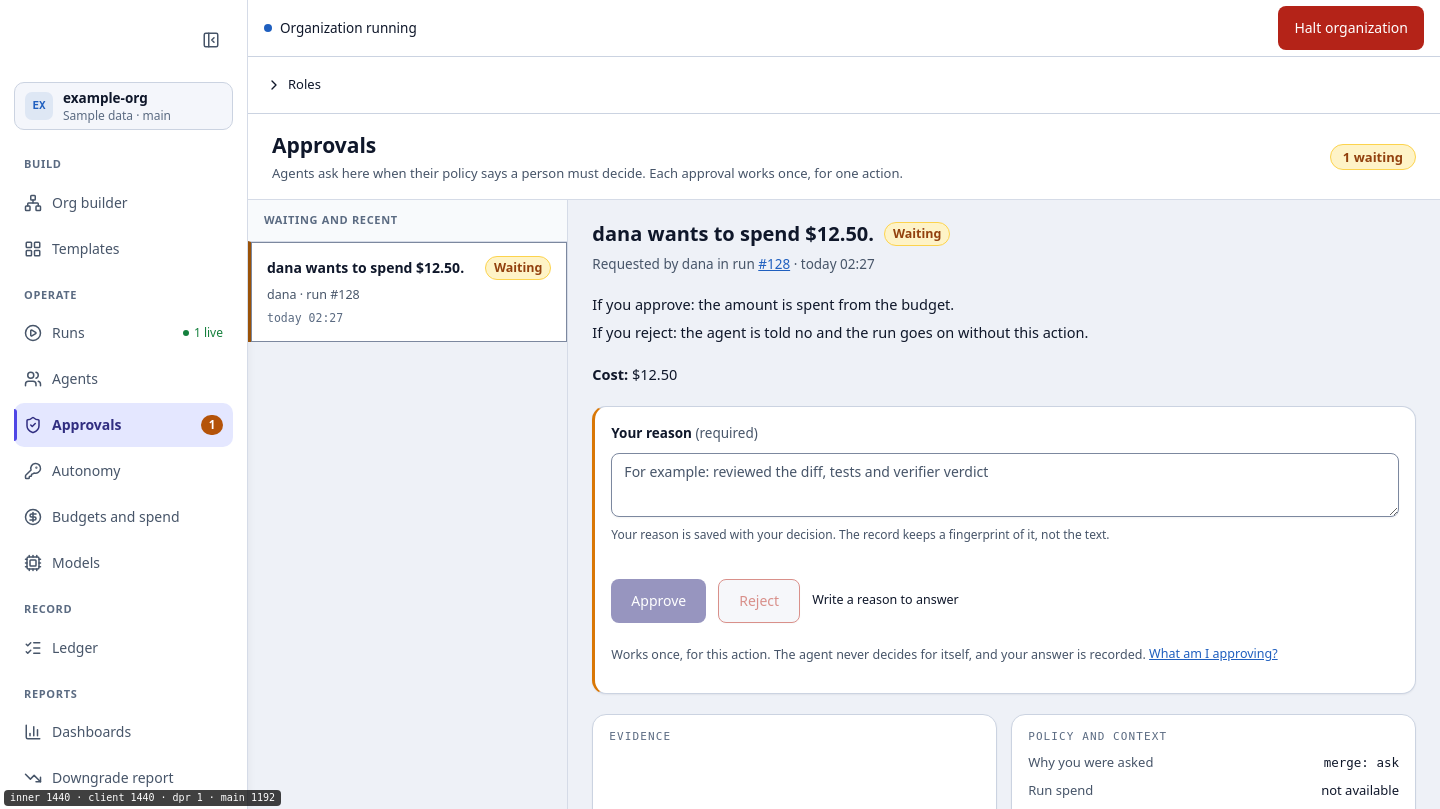
Test case: solo approve: the confirm dialog (SA-17) › says so when the role, the run's spend or a budget is not known, and shows a spend's amount
In the text box labelled "Your reason (required)": (1005, 485) 611,453 -> 1399,517, type "read the diff"
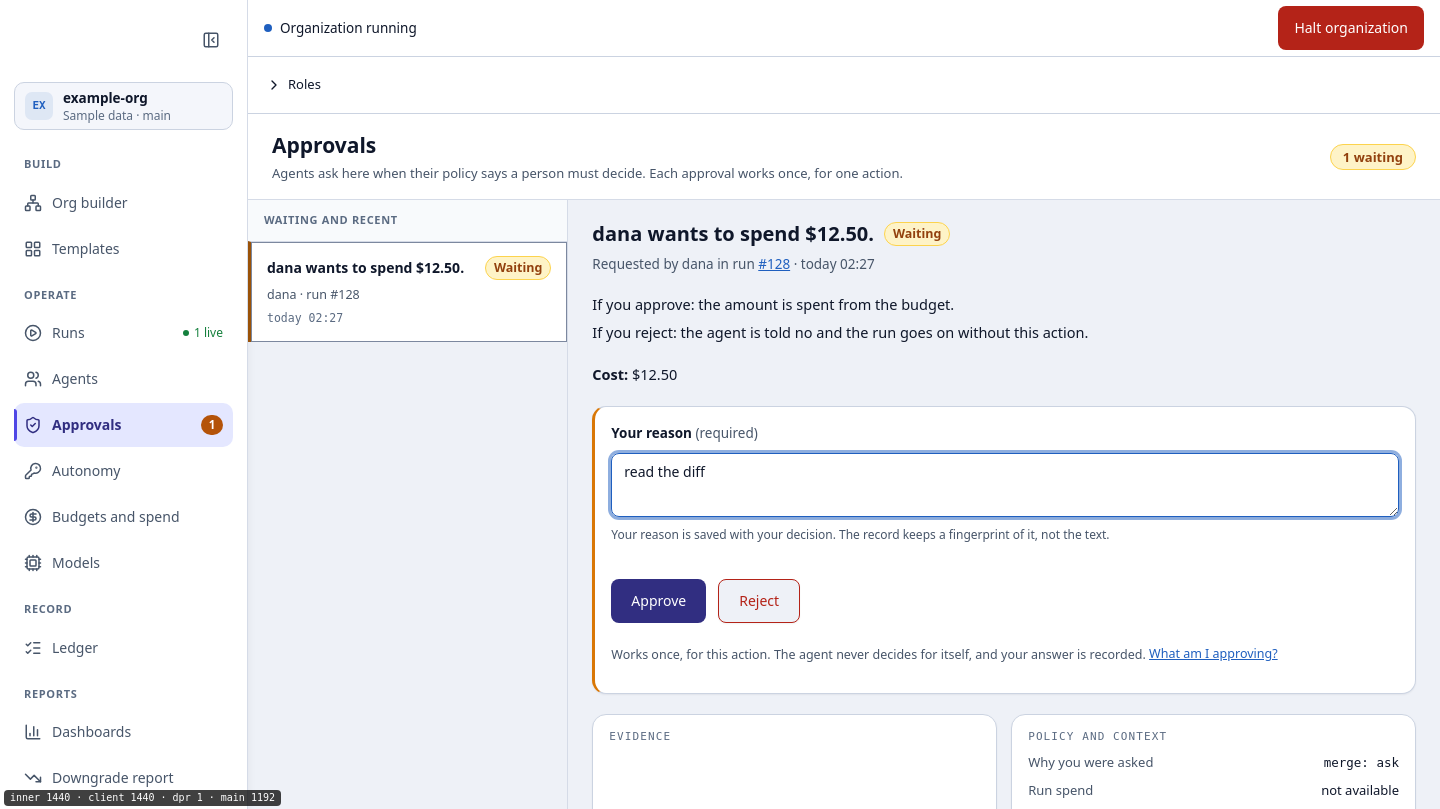
Click the button "Approve": click(659, 601) 611,579 -> 706,623
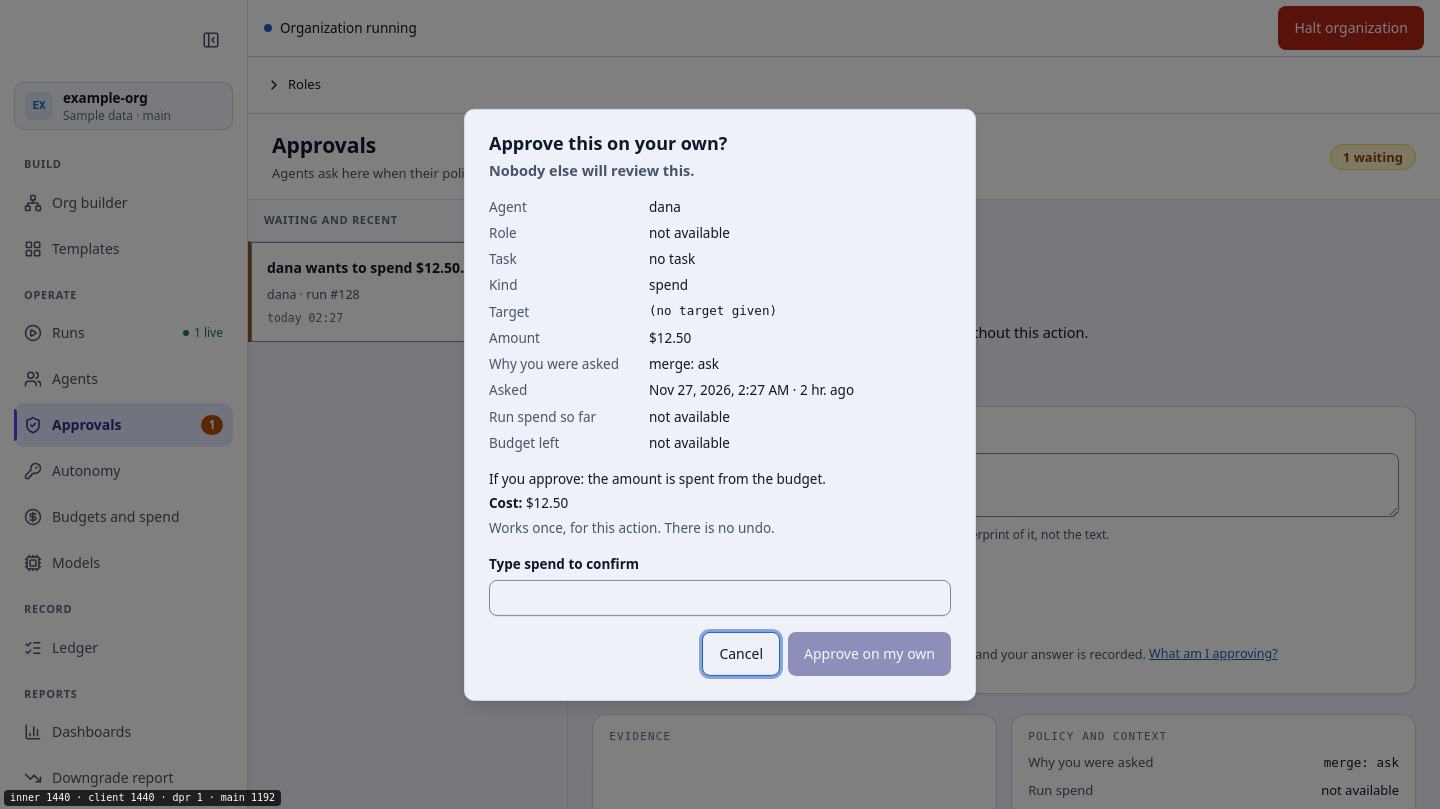
expect the text "no task" is shown: met, box 649,250 -> 695,268
expect the text "(no target given)" is shown: met, box 649,303 -> 777,318
expect the text "$12.50" is shown: met, box 649,329 -> 691,347
